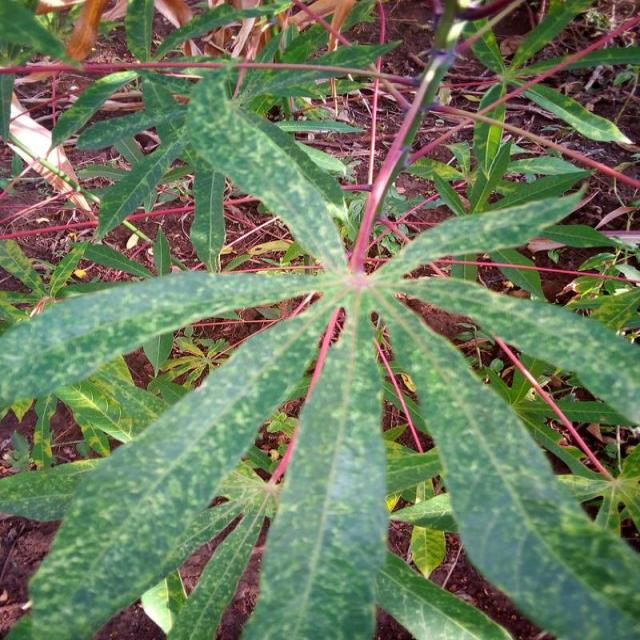cassava leaf: (1, 4, 638, 638), (13, 300, 330, 638)
